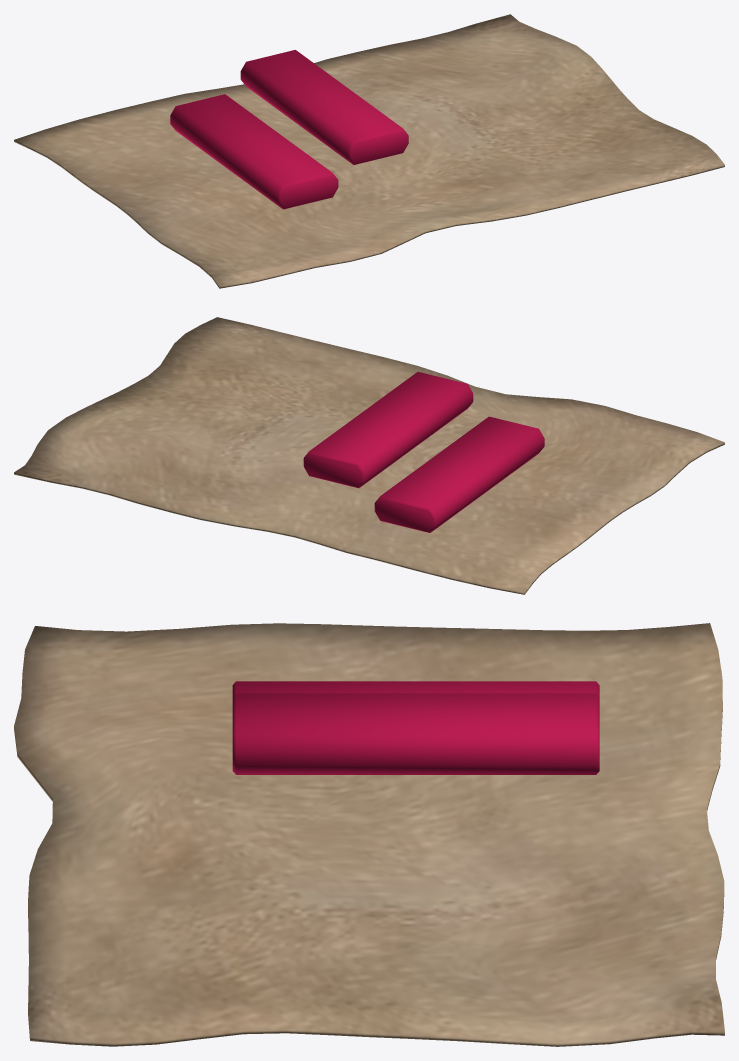
3 renders of one model, top to bottom at view 1: azimuth 30°, elevation 25°; view 2: azimuth 150°, elevation 25°; view 3: azimuth 270°, elevation 25°, orthographic. The views are drawn at different scales.
Visible parts, largest first — view 1: Plane, ColorCloth_B, ColorCloth_B.003; view 2: Plane, ColorCloth_B.003, ColorCloth_B; view 3: Plane, ColorCloth_B.003, ColorCloth_B.
Boxes of the visible parts, bbox=[...] form: Plane: bbox=[14, 14, 724, 288]; ColorCloth_B: bbox=[170, 94, 338, 209]; ColorCloth_B.003: bbox=[240, 50, 408, 164]; Plane: bbox=[14, 317, 724, 594]; ColorCloth_B.003: bbox=[303, 372, 473, 488]; ColorCloth_B: bbox=[374, 416, 544, 532]; Plane: bbox=[14, 623, 724, 1046]; ColorCloth_B.003: bbox=[232, 693, 599, 774]; ColorCloth_B: bbox=[232, 681, 599, 696].
Size of the model in its own units: 339 by 53.42 by 242.
2 materials, 2 textured.
